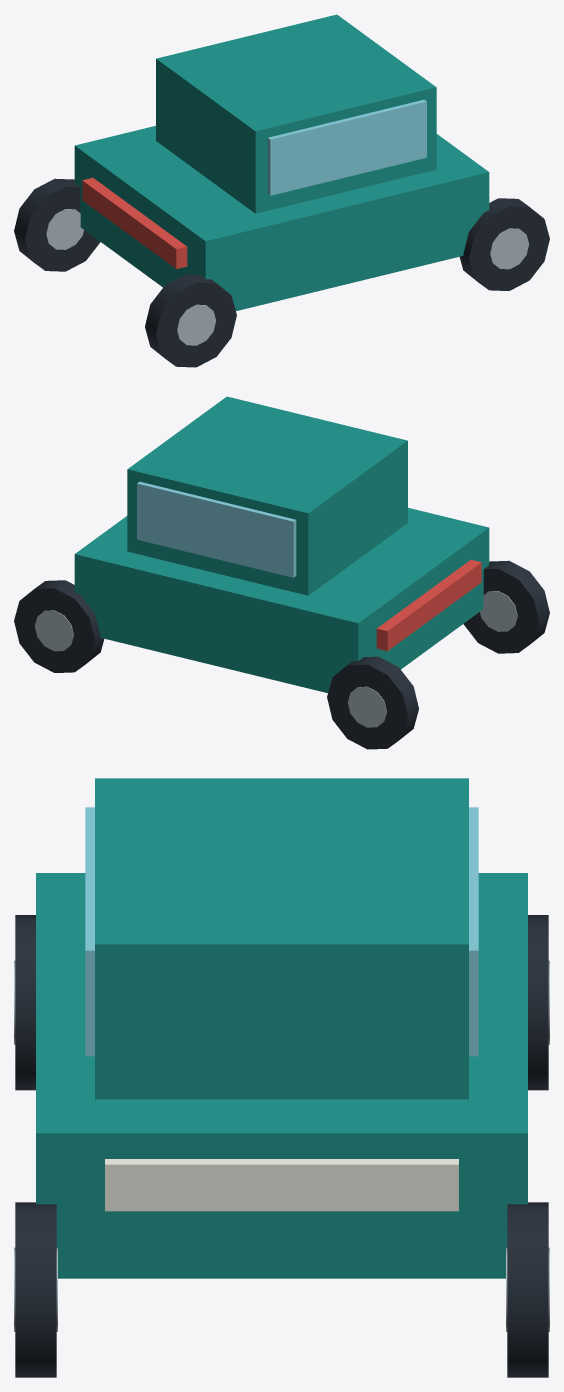
3 renders of one model, top to bottom at view 1: azimuth 30°, elevation 25°; view 2: azimuth 150°, elevation 25°; view 3: azimuth 270°, elevation 25°, orthographic. The views are drawn at different scales.
Parts seen in each view (by area): view 1: car-body, cab, wheel (×3), windshield, hub (×3), tail-lights; view 2: car-body, cab, wheel (×3), windshield, hub (×3), tail-lights; view 3: cab, car-body, wheel (×4), headlights, windshield.
Boxes of the visible parts, x1,y1,x2,y2 form: car-body: [74, 126, 489, 311]; cab: [156, 14, 436, 213]; wheel (×3): [14, 178, 549, 367]; windshield: [267, 99, 426, 195]; hub (×3): [46, 209, 529, 345]; tail-lights: [82, 177, 187, 268]; car-body: [74, 508, 489, 693]; cab: [127, 396, 407, 595]; wheel (×3): [14, 560, 549, 749]; windshield: [137, 481, 296, 577]; hub (×3): [34, 591, 517, 727]; tail-lights: [376, 559, 481, 650]; cab: [95, 778, 468, 1099]; car-body: [36, 873, 527, 1278]; wheel (×4): [15, 915, 548, 1377]; headlights: [105, 1159, 458, 1211]; windshield: [85, 807, 478, 1056].
Bounding box in the file's own units: 3.3 × 1.61 × 2.07.
